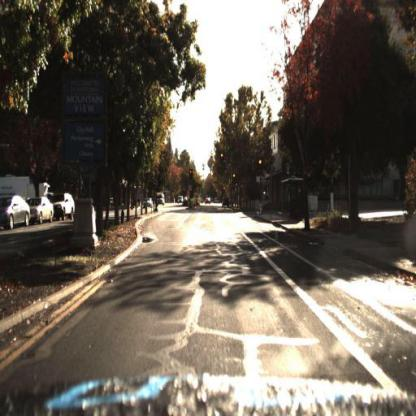car: (2, 195, 33, 232), (52, 191, 76, 224), (33, 194, 56, 225), (54, 192, 76, 224), (155, 191, 167, 208), (221, 199, 232, 212), (146, 196, 155, 209), (177, 193, 186, 205)
trafficLight: (218, 150, 225, 166)
trafficLight-Red: (258, 156, 265, 174), (187, 165, 194, 180), (232, 168, 238, 183)
trafficLight-RedLeft: (187, 168, 195, 185)
trafficLight-Yellow: (258, 157, 266, 169), (231, 173, 237, 181)
truck: (1, 176, 32, 199)
